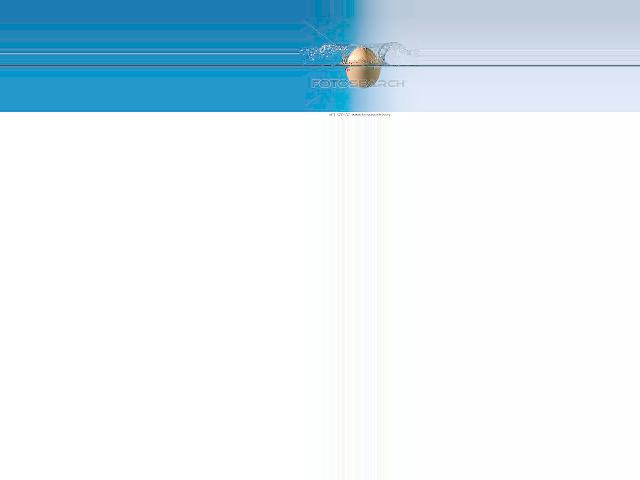egg: (346, 46, 381, 88)
